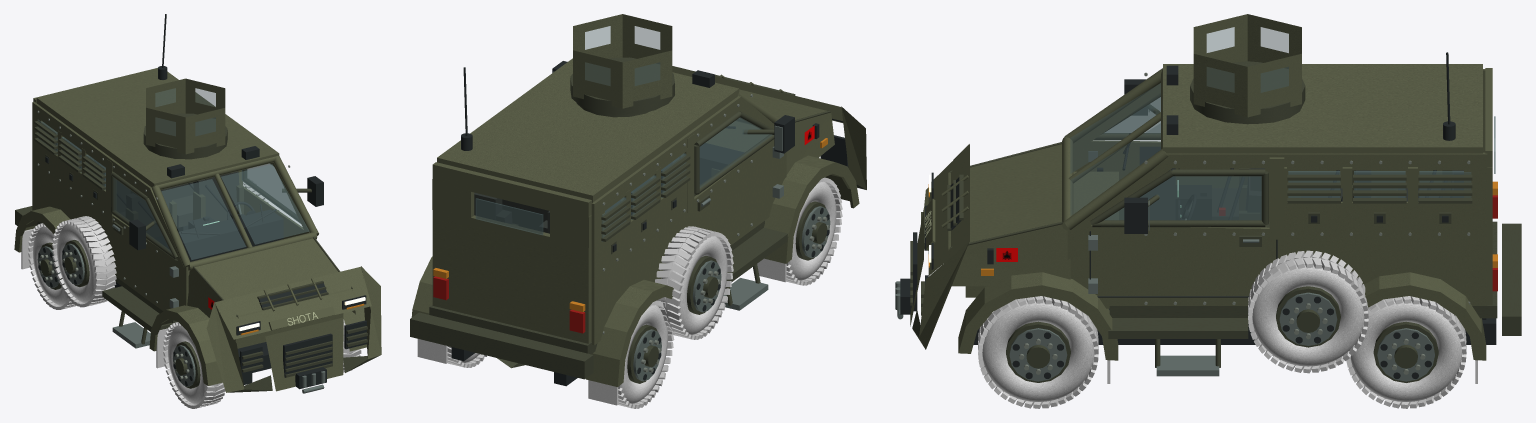
The model's file is shota.glb.
3 views of the same model, side by side, from view 1: azimuth 30°, elevation 25°; view 2: azimuth 150°, elevation 25°; view 3: azimuth 270°, elevation 25° (orthographic). The views are drawn at different scales.
Visible parts, largest first — view 1: military_paint_batch (×7), glass_batch (×2), cabin_batch (×2), rubber_batch (×4), fabric_batch (×3), metal_batch (×4); view 2: military_paint_batch (×7), rubber_batch (×4), glass_batch (×2), cabin_batch (×2), metal_batch (×4), fabric_batch (×2), tail_light_batch; view 3: military_paint_batch (×7), rubber_batch (×3), glass_batch (×2), cabin_batch (×2), metal_batch (×4), fabric_batch (×2).
Part boxes in pixels (left/top/right/bottom): military_paint_batch (×7): left=14, top=68, right=381, bottom=392; glass_batch (×2): left=37, top=88, right=309, bottom=259; cabin_batch (×2): left=45, top=14, right=366, bottom=389; rubber_batch (×4): left=21, top=216, right=225, bottom=408; fabric_batch (×3): left=126, top=171, right=239, bottom=237; metal_batch (×4): left=37, top=224, right=325, bottom=393; military_paint_batch (×7): left=410, top=14, right=866, bottom=387; rubber_batch (×4): left=417, top=177, right=842, bottom=408; glass_batch (×2): left=475, top=26, right=771, bottom=241; cabin_batch (×2): left=451, top=61, right=848, bottom=386; metal_batch (×4): left=552, top=71, right=830, bottom=381; fabric_batch (×2): left=474, top=192, right=548, bottom=230; tail_light_batch: left=433, top=276, right=585, bottom=333; military_paint_batch (×7): left=910, top=14, right=1521, bottom=382; rubber_batch (×3): left=978, top=250, right=1466, bottom=408; glass_batch (×2): left=1070, top=27, right=1495, bottom=220; cabin_batch (×2): left=900, top=52, right=1496, bottom=344; metal_batch (×4): left=895, top=151, right=1434, bottom=381; fabric_batch (×2): left=1212, top=168, right=1264, bottom=219.
Size of the model in its own units: 3.05 by 3.84 by 6.4.
15 materials, 6 textured.
